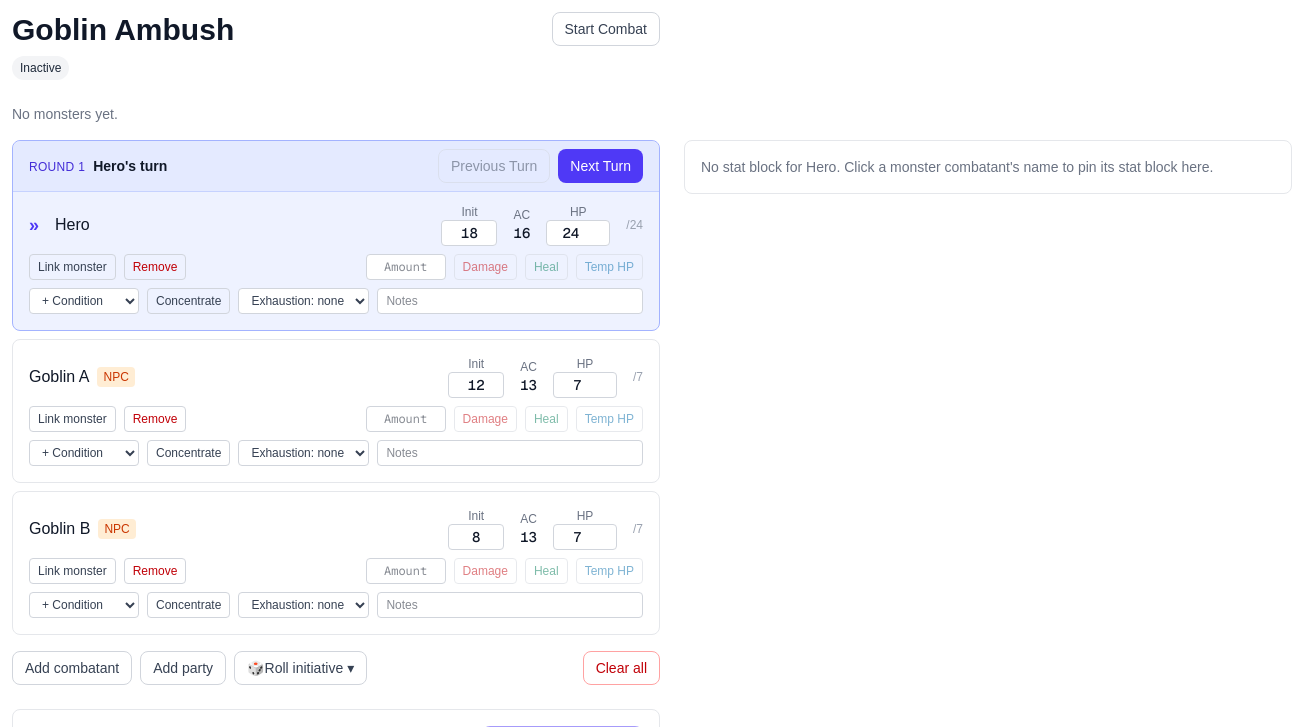
Test: InitiativeTrackerPage › inline initiative editing & tie reorder (VEG-285) › a new tie keeps the existing relative order instead of reshuffling
Check: the heading "Goblin Ambush" is shown, box [12,12,234,48]
Replace the text in the field named "Initiative for Hero" with "12" at {"x": 470, "y": 233}, box [442,220,498,246]
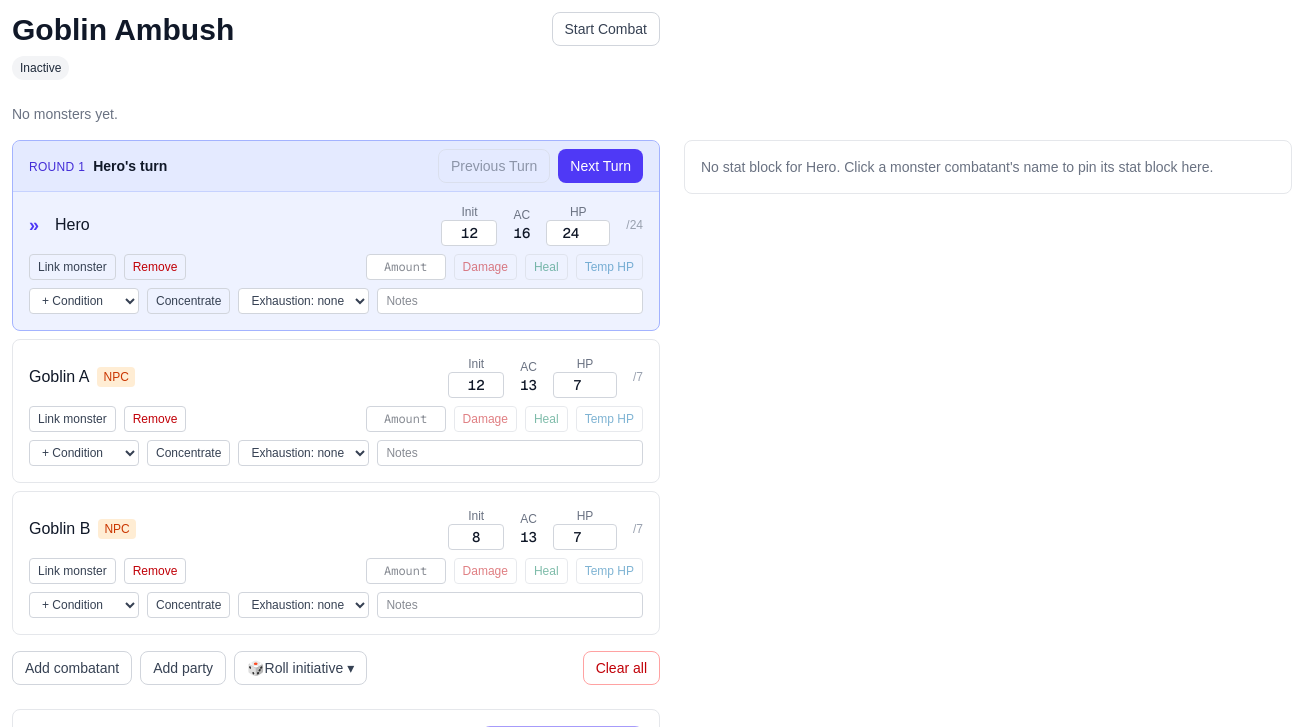
Leave the field named "Initiative for Hero", box [442,220,498,246]
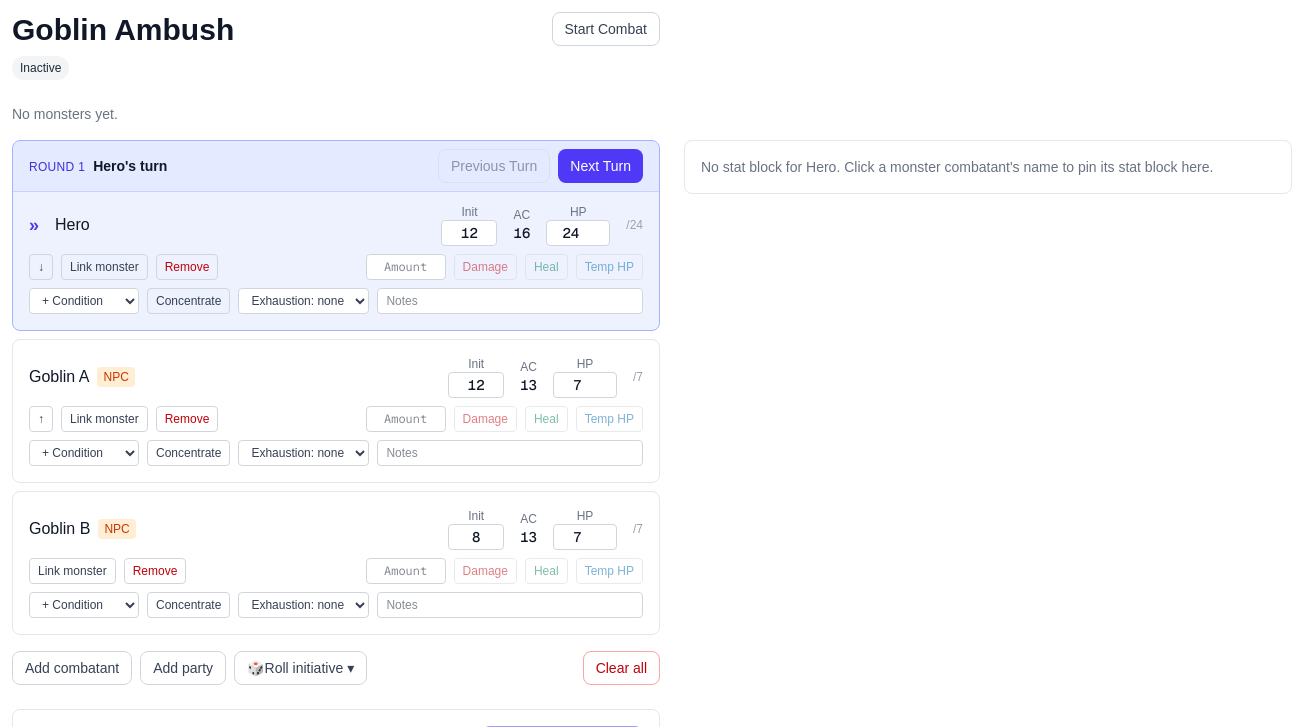
Check: the button named "Move Hero down" is shown, box [29,254,53,280]
Check: the button named "Move Goblin A up" is shown, box [29,406,53,432]
